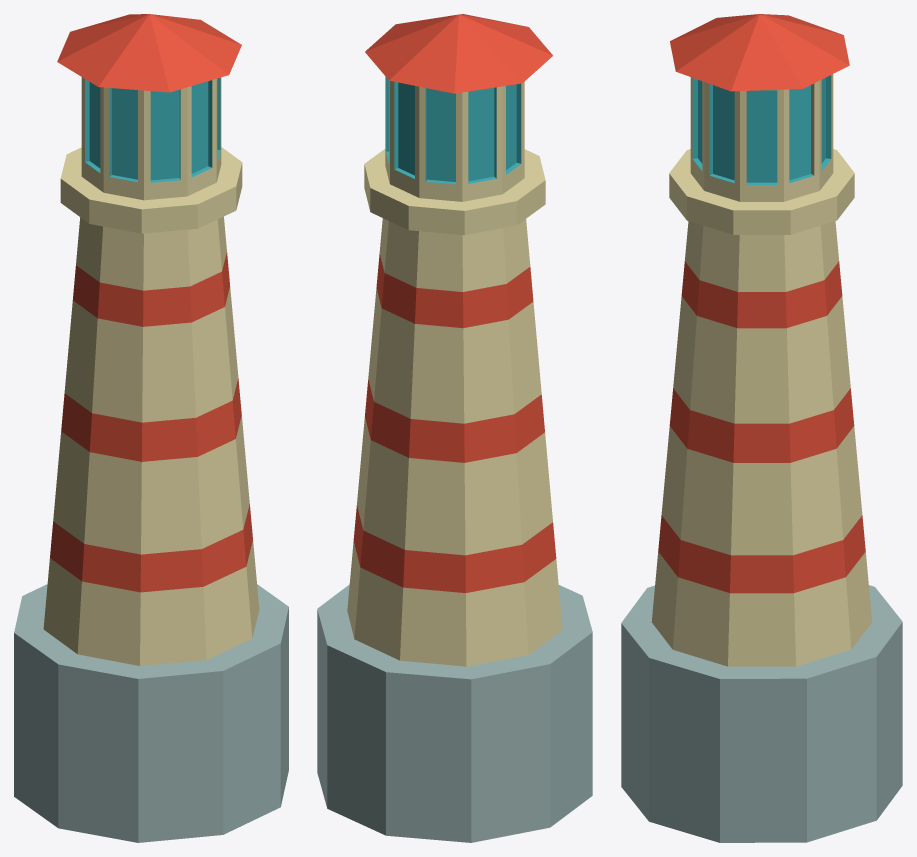
The model's file is Lighttower.glb.
3 views of the same model, side by side, from view 1: azimuth 30°, elevation 25°; view 2: azimuth 150°, elevation 25°; view 3: azimuth 270°, elevation 25° (orthographic).
Visible parts, largest first — view 1: Cylinder.001; view 2: Cylinder.001; view 3: Cylinder.001.
Boxes of the visible parts, x1,y1,x2,y2 form: Cylinder.001: (14, 14, 288, 842); Cylinder.001: (317, 14, 592, 842); Cylinder.001: (621, 14, 902, 842).
Bounding box in the file's own units: 0.9409 × 2.97 × 0.9858.
